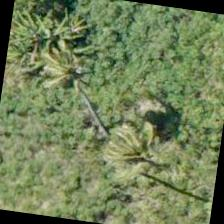Kelapa_Sawit: (7, 0, 110, 102), (88, 104, 190, 206)
